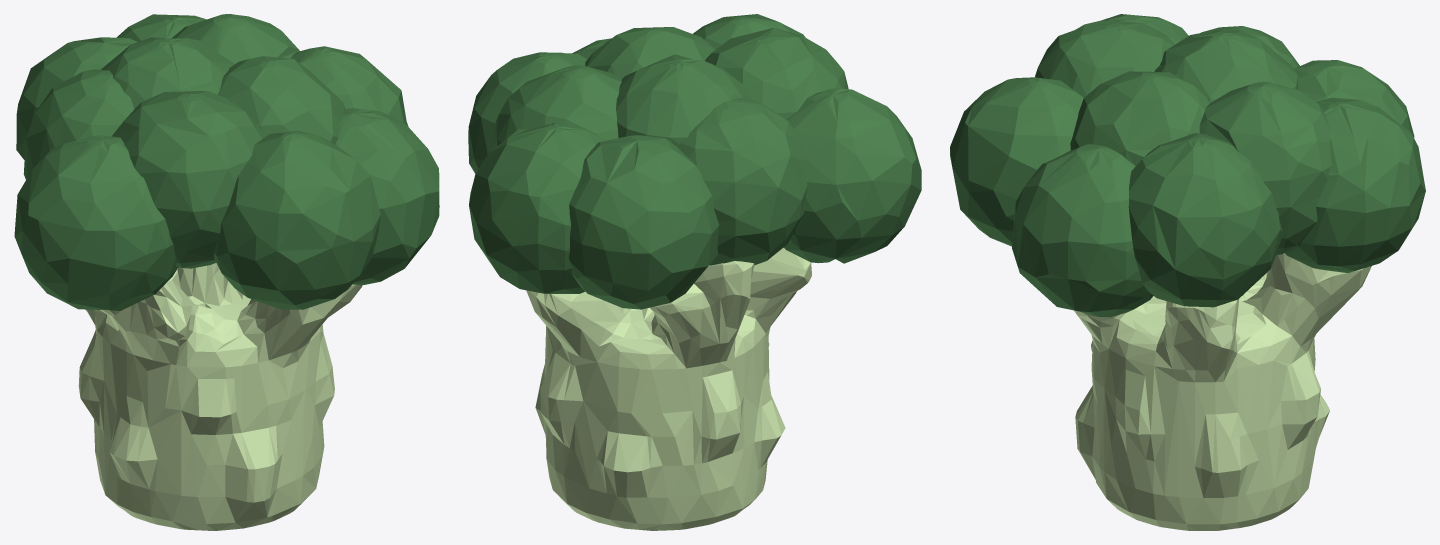
Rendered from brokolica_UV_TEXTURE_v04.fbx.
The picture shows the model from 3 angles, left to right: view 1: azimuth 30°, elevation 25°; view 2: azimuth 150°, elevation 25°; view 3: azimuth 270°, elevation 25°; orthographic projection. The views are drawn at different scales.
Visible parts, largest first — view 1: pCylinder2; view 2: pCylinder2; view 3: pCylinder2.
Part boxes in pixels (bbox=[...]): pCylinder2: bbox=[14, 14, 439, 530]; pCylinder2: bbox=[468, 14, 921, 530]; pCylinder2: bbox=[950, 14, 1425, 530].
Bounding box in the file's own units: 0.9253 × 0.988 × 0.955.
